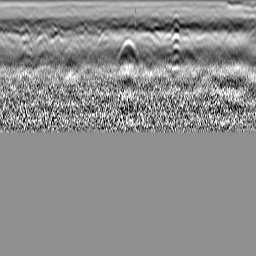cavity: (115, 36, 139, 63)
